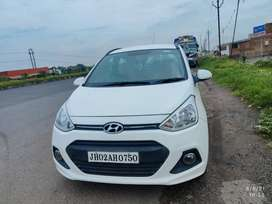JH02AH0750: (87, 151, 139, 163)
